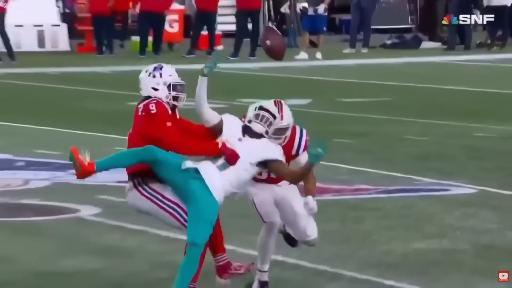Helmet: (139, 64, 186, 106), (244, 100, 280, 137), (269, 100, 293, 145)
Jersey: (185, 115, 285, 203), (127, 98, 219, 156), (281, 125, 307, 165)
Player: (71, 104, 323, 287), (128, 64, 222, 156), (248, 171, 317, 287)
